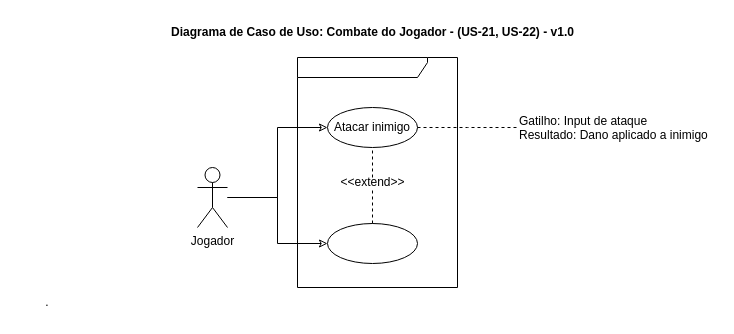
Image size: 734x334. Some labels were removed from this diagram. Each missing label, with the box of its shape:
Atacar a distância: (326, 222, 418, 264)
Sistema de Combate: (296, 56, 458, 288)
